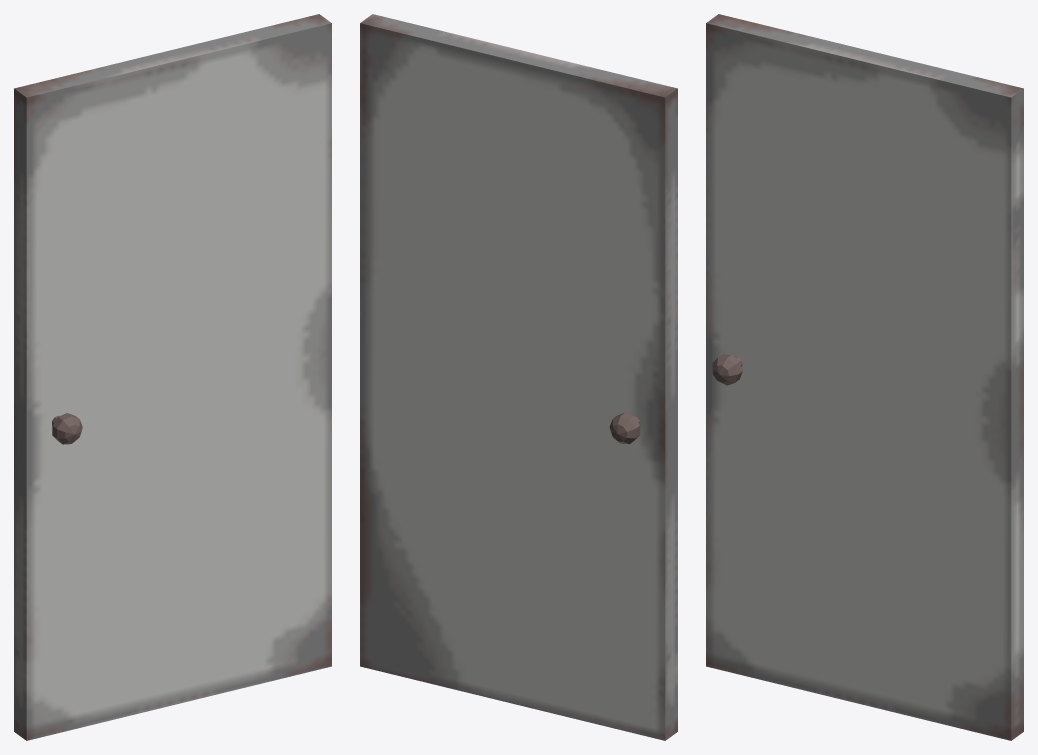
Rendered from Door.fbx.
The picture shows the model from 3 angles, left to right: view 1: azimuth 30°, elevation 25°; view 2: azimuth 150°, elevation 25°; view 3: azimuth 330°, elevation 25°; orthographic projection.
Visible parts, largest first — view 1: door, doorknob_out; view 2: door, doorknob_in; view 3: door, doorknob_out.
Boxes of the visible parts, x1=… form: door: x1=14, y1=14, x2=331, y2=740; doorknob_out: x1=52, y1=413, x2=82, y2=444; door: x1=360, y1=14, x2=677, y2=740; doorknob_in: x1=609, y1=412, x2=640, y2=444; door: x1=706, y1=14, x2=1023, y2=740; doorknob_out: x1=712, y1=354, x2=742, y2=385.
Bounding box in the file's own units: 1.17 × 2.35 × 0.3085.
1 material, 1 textured.
